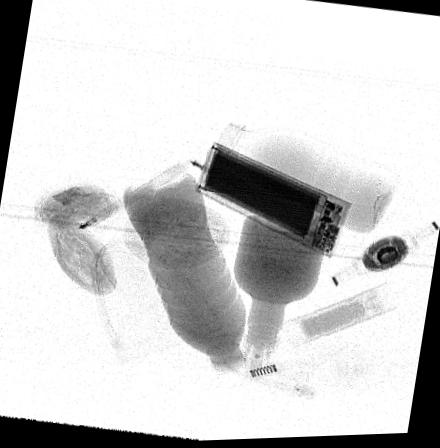Powerbank: (196, 143, 353, 261)
